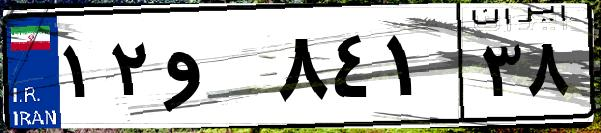1: (385, 28, 445, 110), (57, 26, 110, 100)
2: (110, 28, 158, 98)
3: (475, 38, 525, 113)
4: (330, 28, 385, 110)
8: (270, 28, 330, 110), (525, 38, 570, 115)
و: (158, 20, 270, 120)
